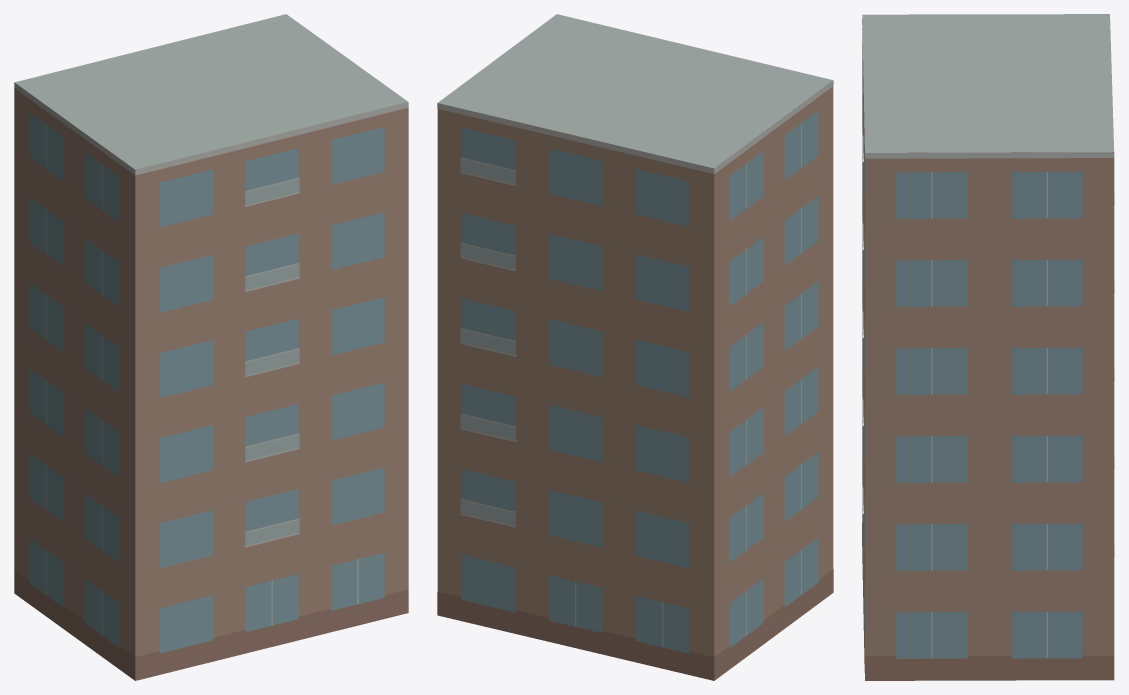
Rendered from survey-upis-32736610.glb.
The picture shows the model from 3 angles, left to right: view 1: azimuth 30°, elevation 25°; view 2: azimuth 150°, elevation 25°; view 3: azimuth 270°, elevation 25°; orthographic projection. The views are drawn at different scales.
Visible parts, largest first — view 1: survey-upis-32736610.tmp; view 2: survey-upis-32736610.tmp; view 3: survey-upis-32736610.tmp.
Part boxes in pixels (<box>): survey-upis-32736610.tmp: <box>14,14,408,680</box>; survey-upis-32736610.tmp: <box>437,14,833,680</box>; survey-upis-32736610.tmp: <box>862,14,1114,680</box>.
Bounding box in the file's own units: 12.37 × 21.9 × 9.51.
